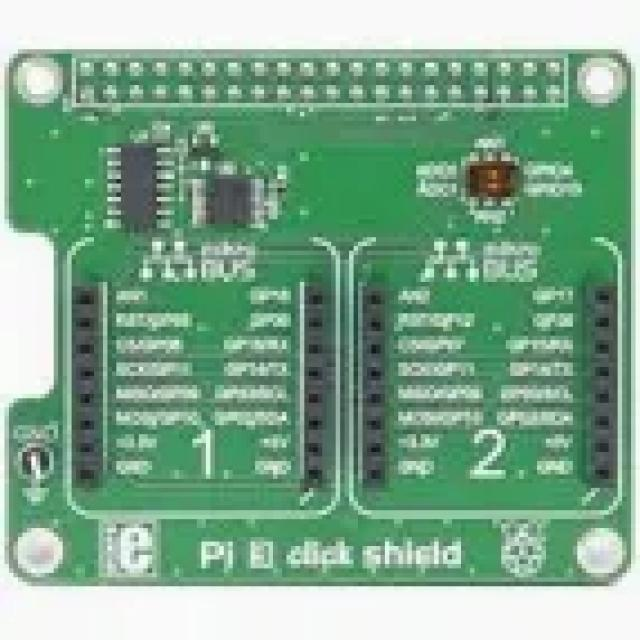pcb: (0, 41, 636, 586)
